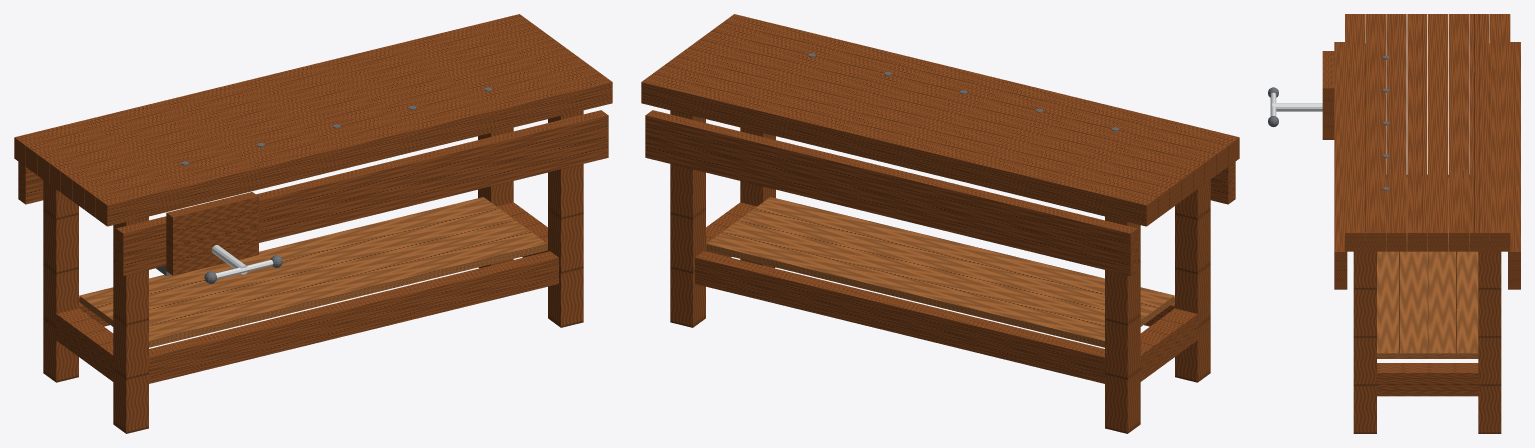
File: woodworking-workshop-and-joinery-woodworking-workshop--1a38c738__34249.glb
3 views of the same model, side by side, from view 1: azimuth 30°, elevation 25°; view 2: azimuth 150°, elevation 25°; view 3: azimuth 270°, elevation 25° (orthographic). The views are drawn at different scales.
Parts seen in each view (by area): view 1: woodworking-workshop-and-joinery-joiners-workbench, vice-jaw/timber, vice-jaw/steel; view 2: woodworking-workshop-and-joinery-joiners-workbench; view 3: woodworking-workshop-and-joinery-joiners-workbench, vice-jaw/timber, vice-jaw/steel.
Boxes of the visible parts, x1,y1,x2,y2 form: woodworking-workshop-and-joinery-joiners-workbench: [14, 14, 612, 433]; vice-jaw/timber: [166, 192, 258, 275]; vice-jaw/steel: [211, 245, 273, 279]; woodworking-workshop-and-joinery-joiners-workbench: [641, 14, 1239, 433]; woodworking-workshop-and-joinery-joiners-workbench: [1334, 14, 1520, 433]; vice-jaw/timber: [1322, 51, 1334, 139]; vice-jaw/steel: [1270, 92, 1322, 116].
Bounding box in the file's own units: 2 × 0.903 × 0.976.
4 materials, 2 textured.
